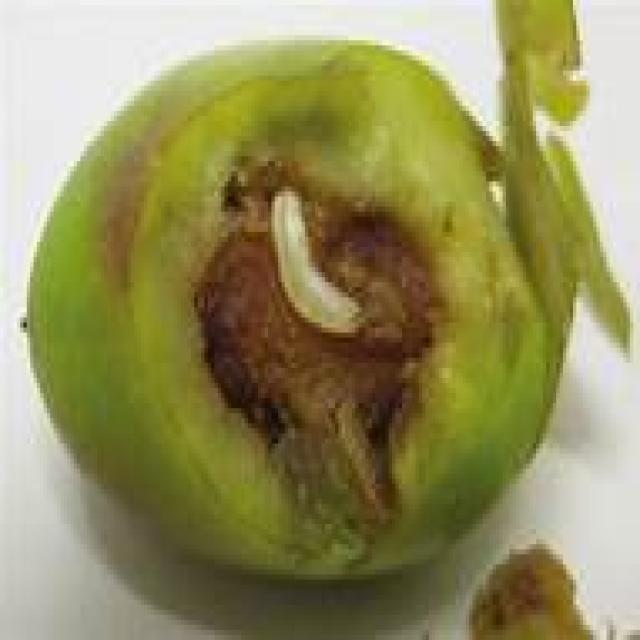Olive Fruit Fly: (30, 45, 570, 574)
